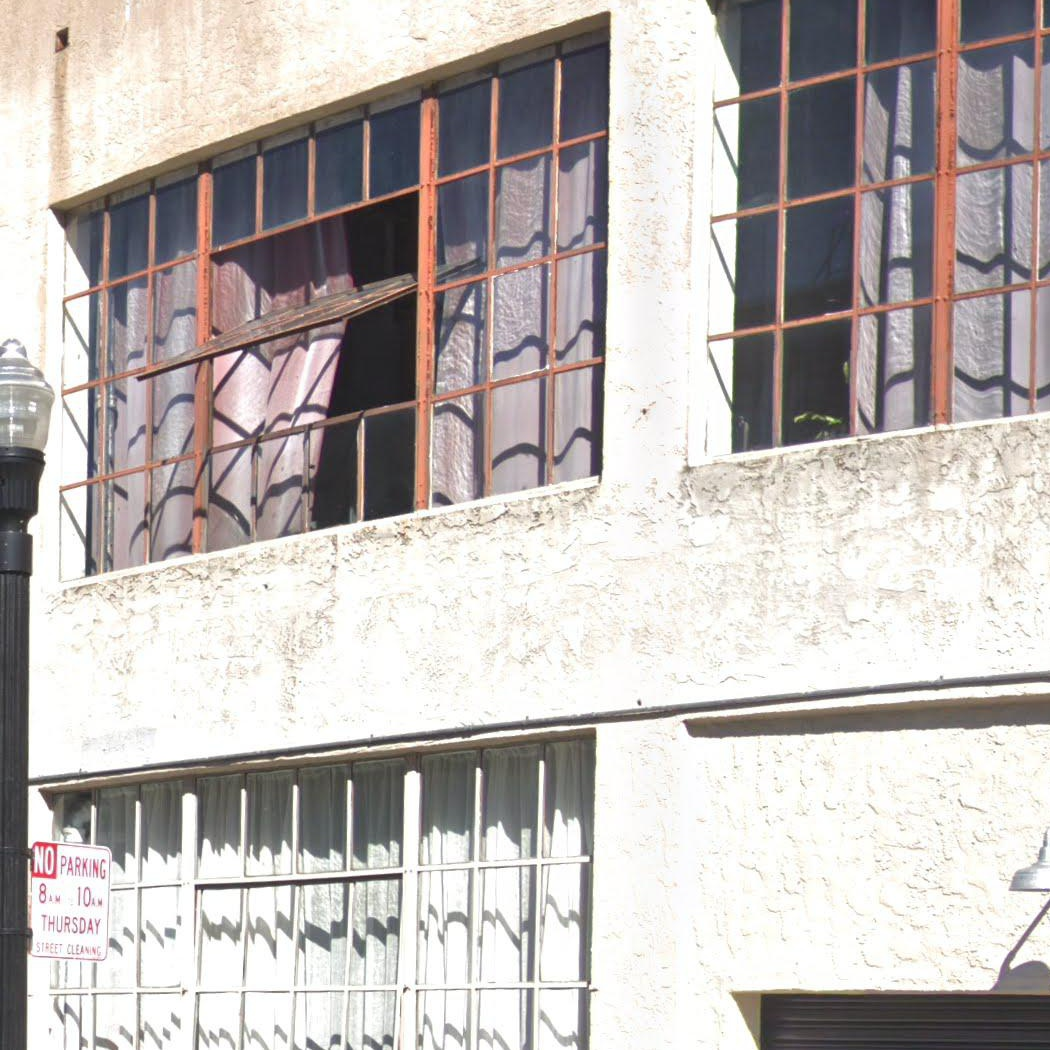No Parking: (28, 840, 113, 961)
